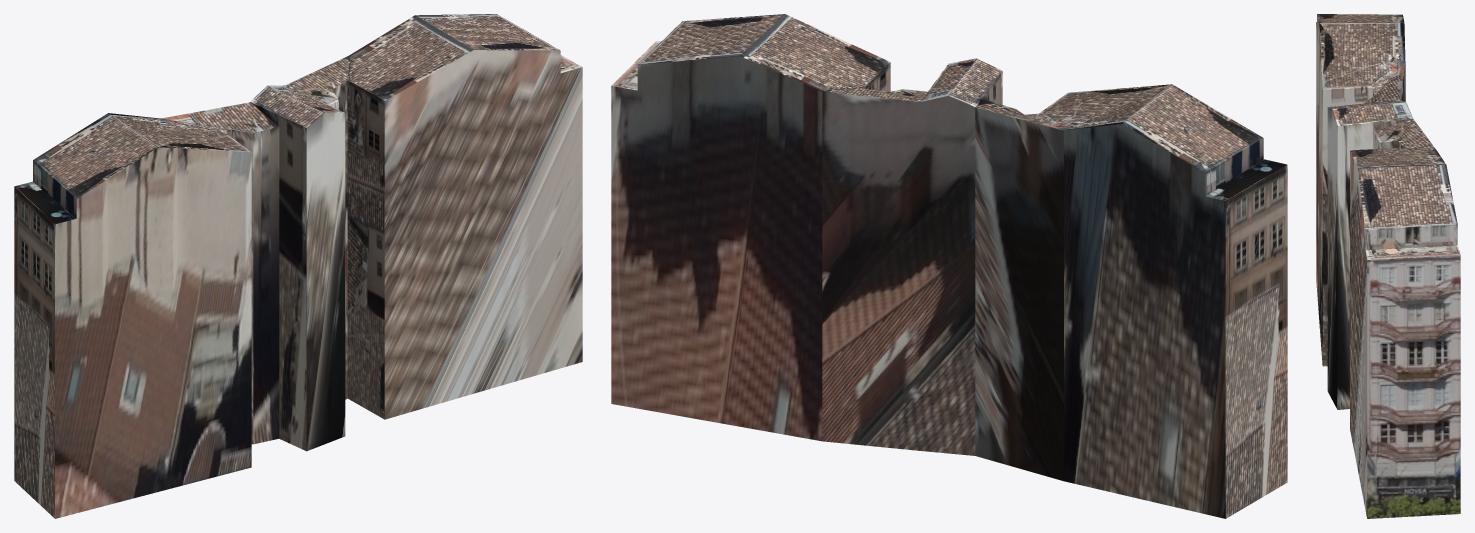
The picture shows the model from 3 angles, left to right: view 1: azimuth 30°, elevation 25°; view 2: azimuth 150°, elevation 25°; view 3: azimuth 270°, elevation 25°; orthographic projection. The views are drawn at different scales.
Parts seen in each view (by area): view 1: Z_UP; view 2: Z_UP; view 3: Z_UP.
Boxes of the visible parts, x1,y1,x2,y2 form: Z_UP: (14, 14, 582, 518); Z_UP: (611, 14, 1287, 518); Z_UP: (1316, 14, 1460, 518).
Bounding box in the file's own units: 44.55 × 26.37 × 11.4.
2 materials, 1 textured.
